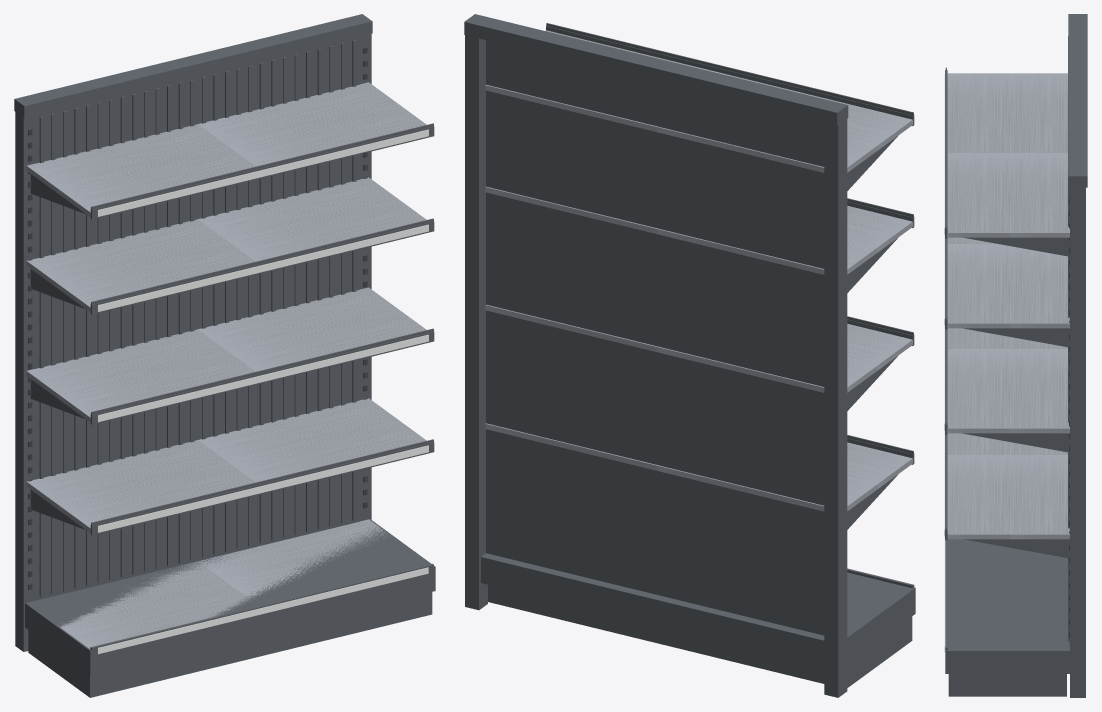
The model's file is Single_Shelf.glb.
The picture shows the model from 3 angles, left to right: view 1: azimuth 30°, elevation 25°; view 2: azimuth 150°, elevation 25°; view 3: azimuth 270°, elevation 25°; orthographic projection. The views are drawn at different scales.
Parts seen in each view (by area): view 1: Mesh_107.003; view 2: Mesh_107.003; view 3: Mesh_107.003.
Part boxes in pixels (x1=…): Mesh_107.003: x1=14, y1=14, x2=435, y2=697; Mesh_107.003: x1=464, y1=14, x2=915, y2=697; Mesh_107.003: x1=944, y1=14, x2=1087, y2=697.
Size of the model in its own units: 1.2 by 1.8 by 0.448.
20 materials, 5 textured.
